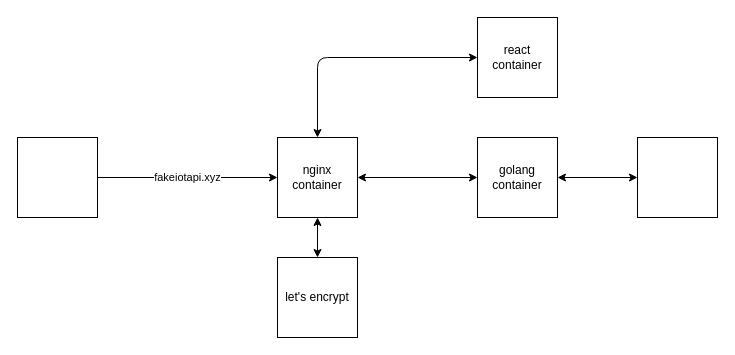
This 735x355 diagram has some shape labels left out. The centre of each missing label's shape, as x and y in pixels:
browser: pixel 57 177
postgres container: pixel 677 177
